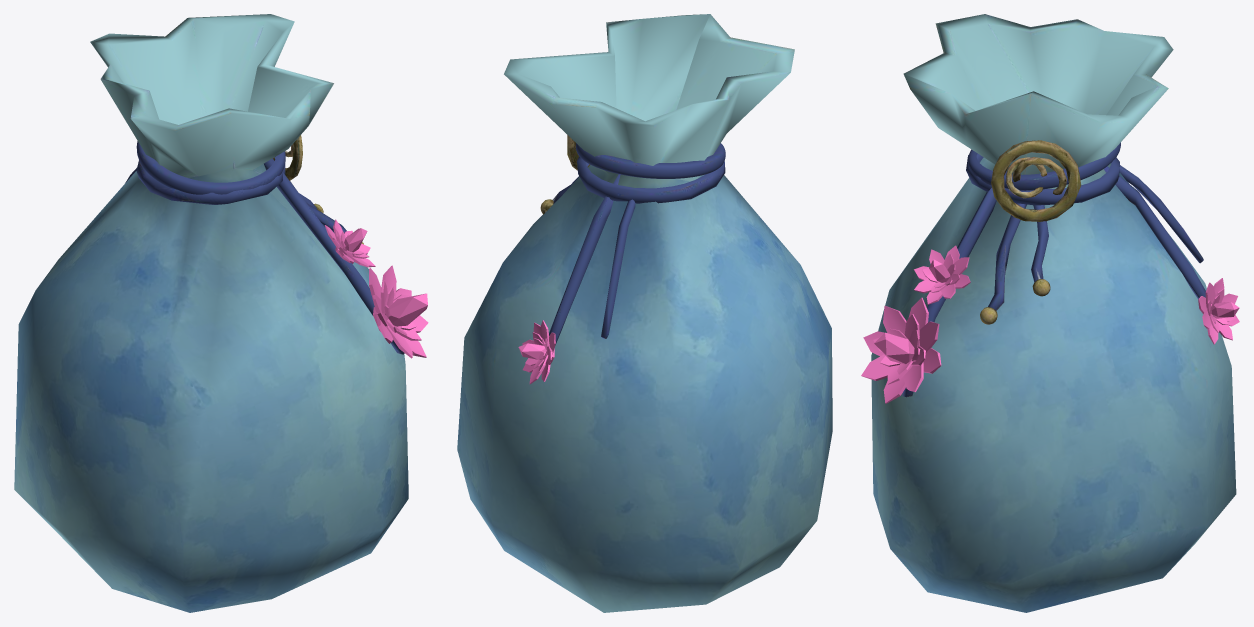
The model's file is bagCompressed.glb.
The picture shows the model from 3 angles, left to right: view 1: azimuth 30°, elevation 25°; view 2: azimuth 150°, elevation 25°; view 3: azimuth 270°, elevation 25°; orthographic projection.
Parts seen in each view (by area): view 1: polySurface315; view 2: polySurface315; view 3: polySurface315.
Boxes of the visible parts, x1,y1,x2,y2 form: polySurface315: [14, 14, 428, 612]; polySurface315: [457, 14, 832, 612]; polySurface315: [861, 14, 1239, 612].
Bounding box in the file's own units: 0.5 × 0.75 × 0.5.
Materials: 2 (1 with a texture image).
